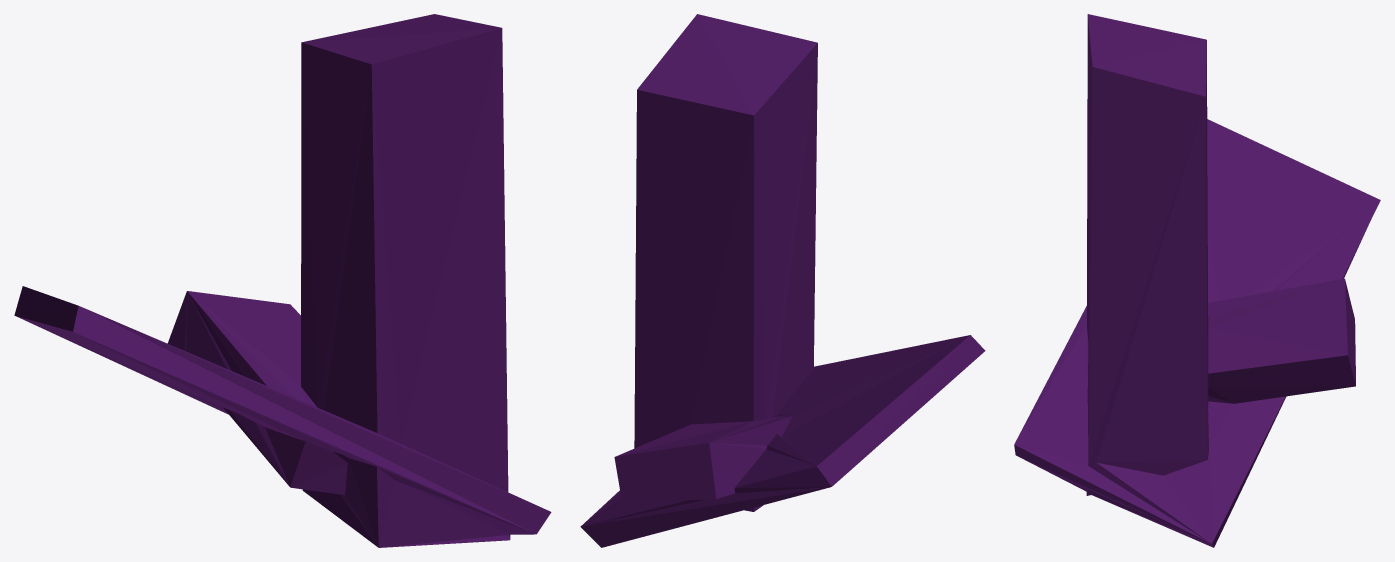
3 views of the same model, side by side, from view 1: azimuth 30°, elevation 25°; view 2: azimuth 150°, elevation 25°; view 3: azimuth 270°, elevation 25° (orthographic). The views are drawn at different scales.
Visible parts, largest first — view 1: 110_Cube.461; view 2: 110_Cube.461; view 3: 110_Cube.461.
Boxes of the visible parts, left/top/right/bottom form: 110_Cube.461: left=14, top=14, right=551, bottom=547; 110_Cube.461: left=580, top=14, right=985, bottom=547; 110_Cube.461: left=1014, top=14, right=1380, bottom=547.
Size of the model in its own units: 11.43 by 13.93 by 9.92.
